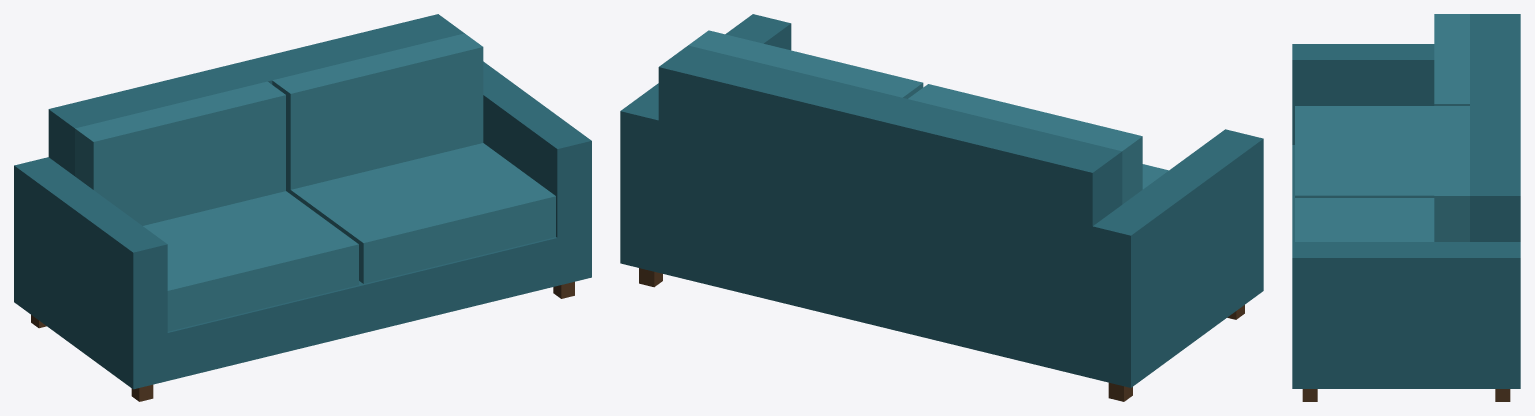
File: canape.glb
3 renders of one model, left to right at view 1: azimuth 30°, elevation 25°; view 2: azimuth 150°, elevation 25°; view 3: azimuth 270°, elevation 25°, orthographic. The views are drawn at different scales.
Parts seen in each view (by area): view 1: canape; view 2: canape; view 3: canape.
Part boxes in pixels (x1,y1,x2,y2): canape: (14, 14, 591, 401); canape: (620, 14, 1263, 401); canape: (1292, 14, 1520, 401).
Size of the model in its own units: 2 by 0.85 by 0.9.
